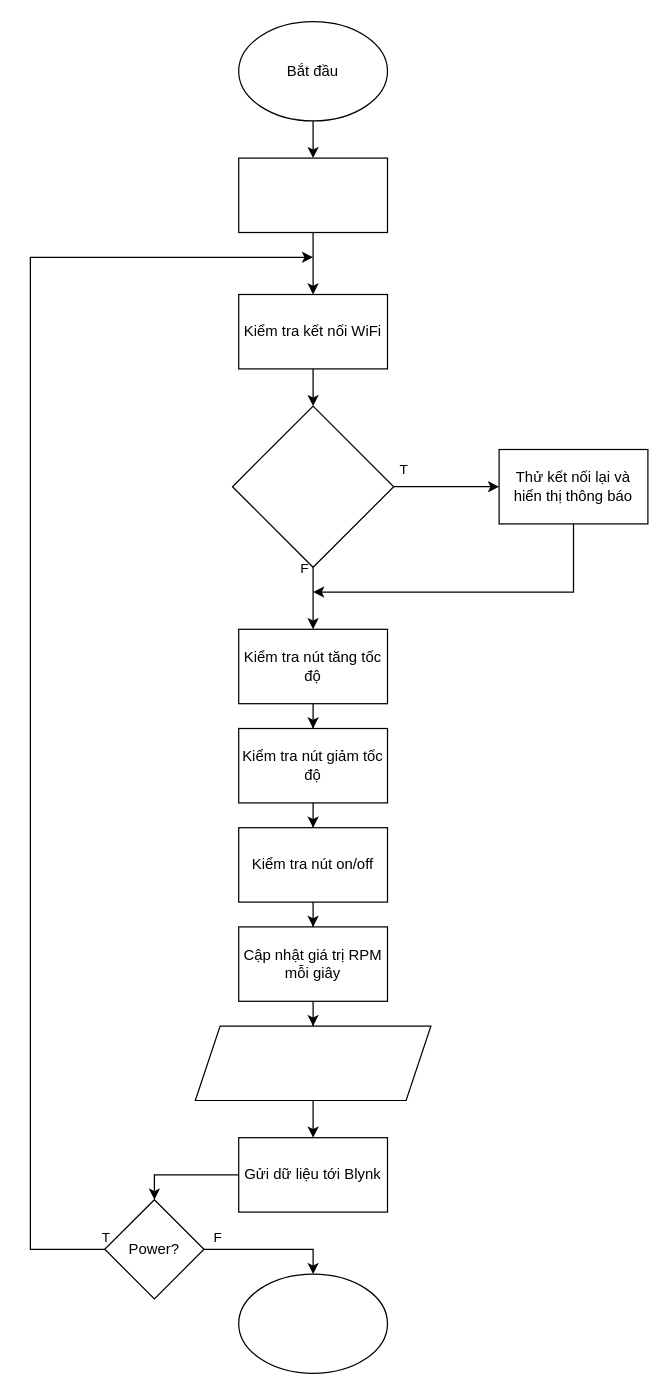
Some shapes in this 670 by 1395 pixel diagram are drawn without their labels. The centre of each missing label's shape, as x and y in pixels:
"Hiển thị thông số lên LCD" belongs at point 312,1062.
"Khởi tạo các biến và cài đặt các chân" belongs at point 312,194.
"Kết Thúc" belongs at point 312,1323.
"Mất kết nối?" belongs at point 312,486.
